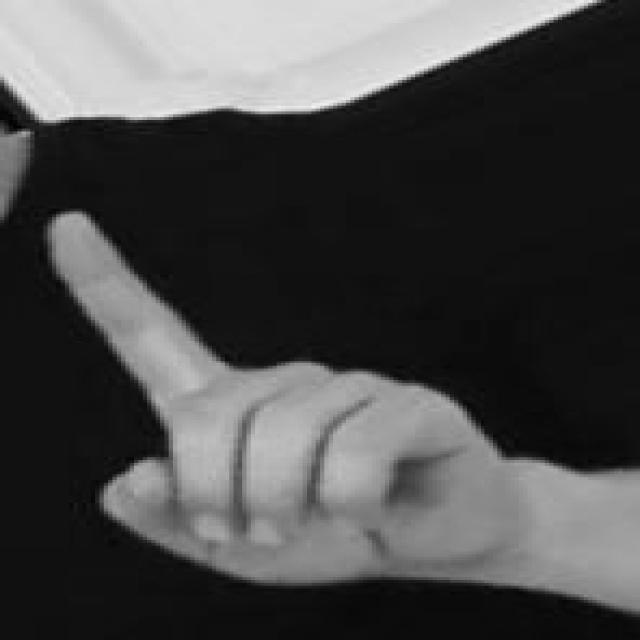I: (40, 206, 539, 593)
